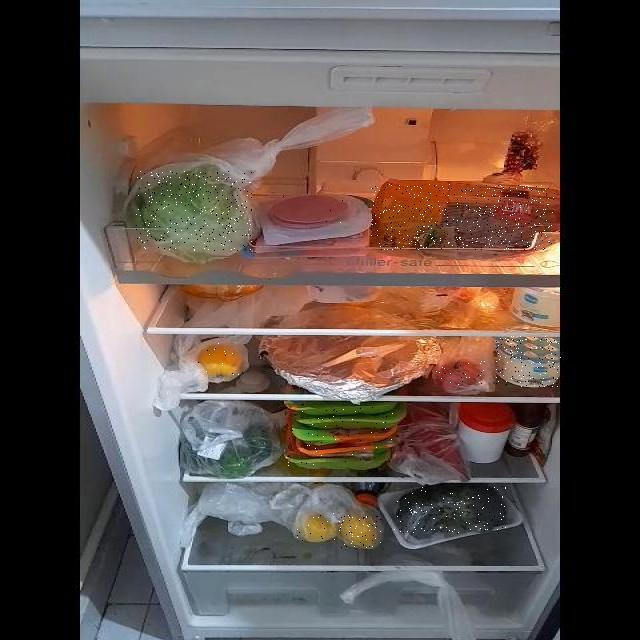bread: (371, 184, 555, 250)
broccoli: (394, 486, 506, 535)
chicken: (285, 403, 393, 468)
lemon: (196, 342, 247, 376), (339, 515, 381, 548), (296, 513, 338, 542)
lettuce: (136, 171, 252, 251)
salami: (272, 195, 350, 226)
tomato: (436, 360, 485, 390)
yoghurt: (496, 336, 561, 387)
